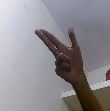hand: (32, 24, 85, 86)
